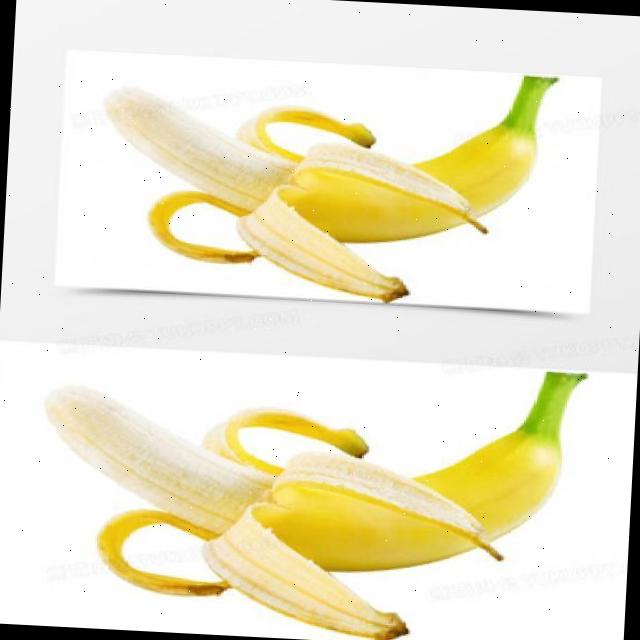banana-peel: (32, 343, 587, 640), (93, 51, 559, 312)
